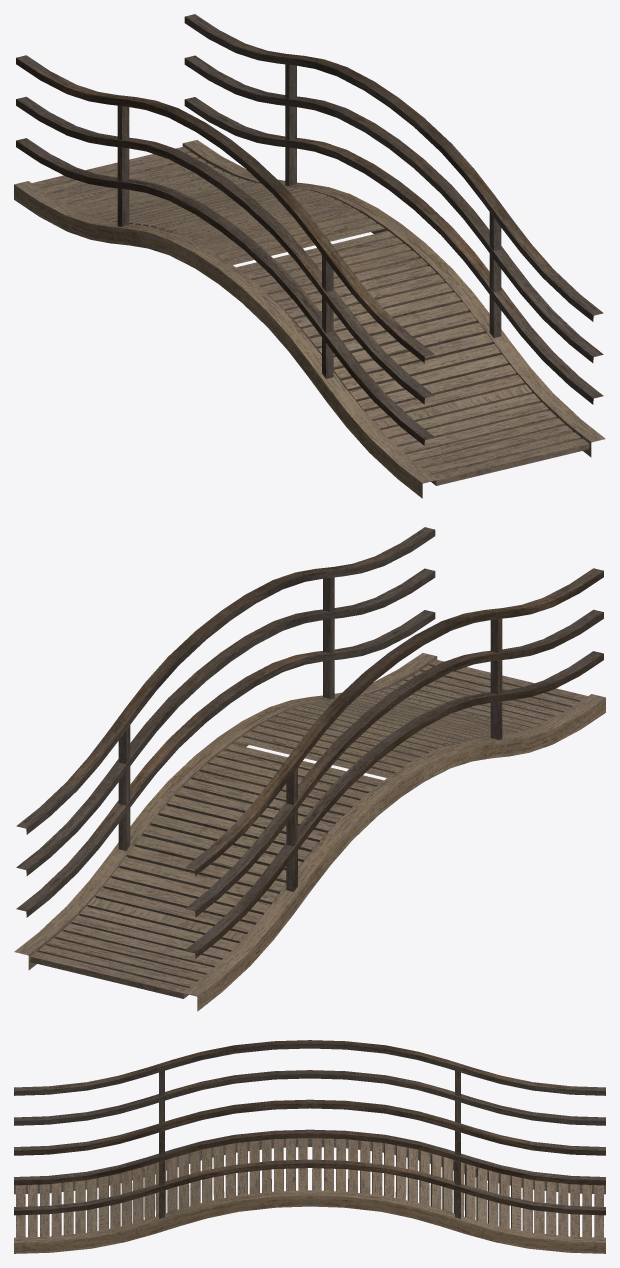
The model's file is wood_curve_bridge.glb.
The picture shows the model from 3 angles, top to bottom: view 1: azimuth 30°, elevation 25°; view 2: azimuth 150°, elevation 25°; view 3: azimuth 270°, elevation 25°; orthographic projection. The views are drawn at different scales.
Visible parts, largest first — view 1: curve_bridge; view 2: curve_bridge; view 3: curve_bridge.
Boxes of the visible parts, left/top/right/bottom form: curve_bridge: left=14, top=14, right=605, bottom=498; curve_bridge: left=14, top=527, right=605, bottom=1011; curve_bridge: left=14, top=1040, right=605, bottom=1253.
Size of the model in its own units: 1.35 by 1.45 by 5.2.
1 material, 1 textured.
